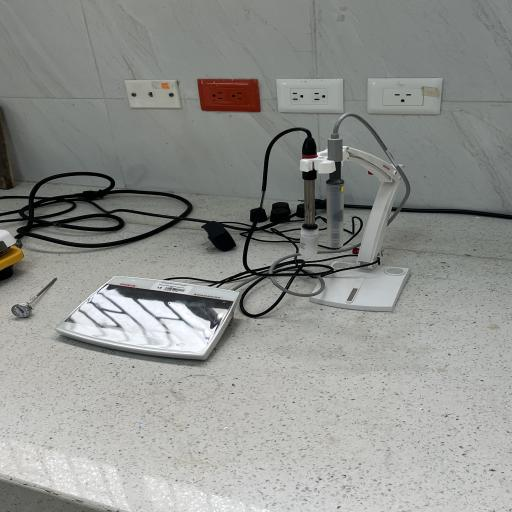Phmetro_Ohaus: (50, 267, 251, 365)
